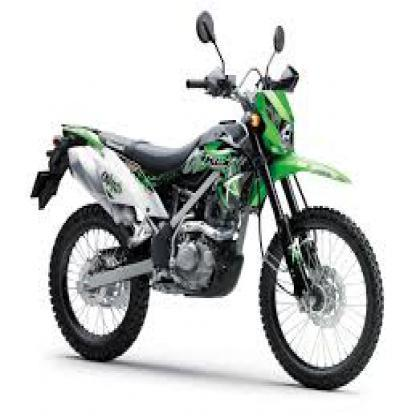Motorcycle: (28, 2, 391, 394)
